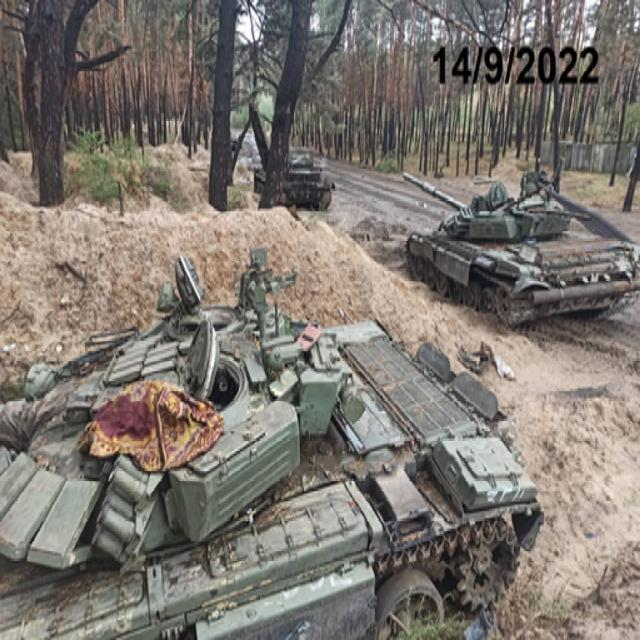TANK: (0, 247, 544, 636), (401, 167, 634, 329), (252, 142, 332, 211)
